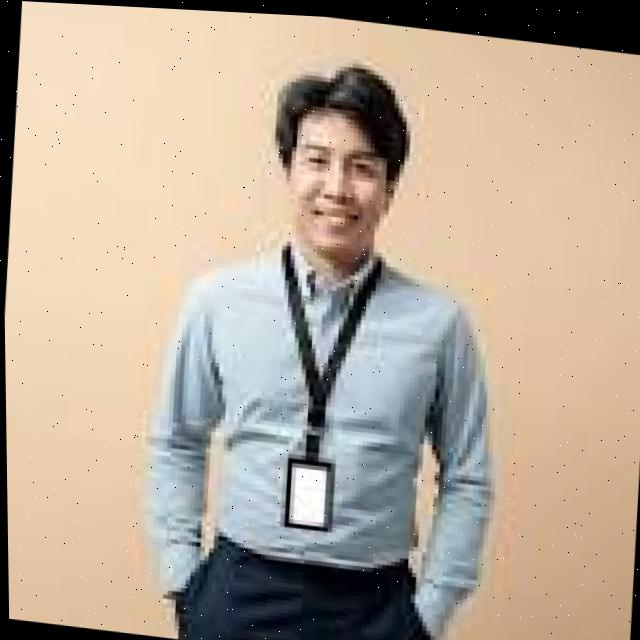id_card: (249, 247, 388, 543)
